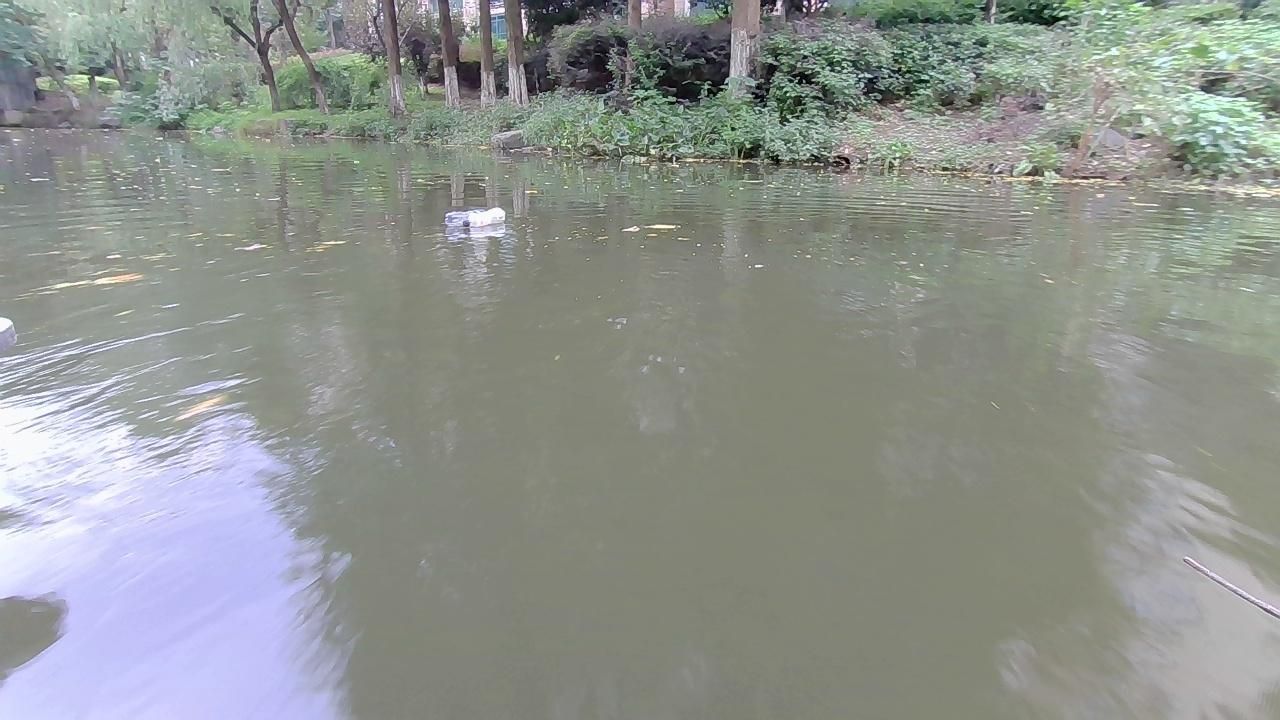bottle: (461, 206, 509, 229), (445, 203, 473, 222)
